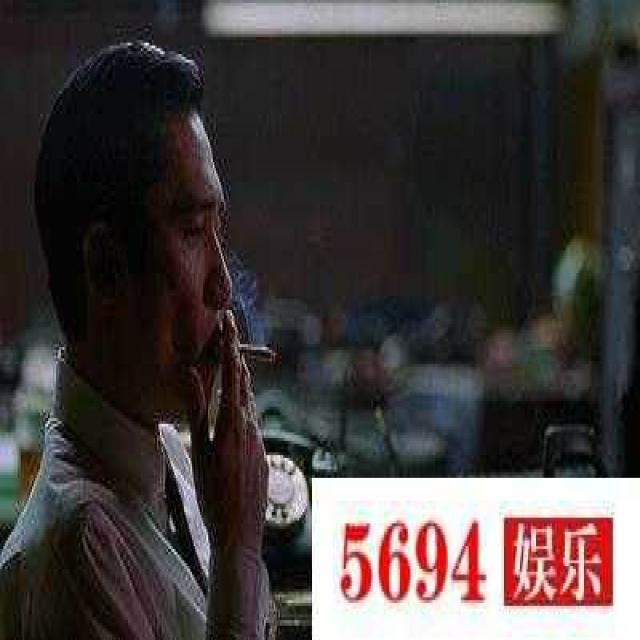cigarette: (210, 321, 276, 373)
